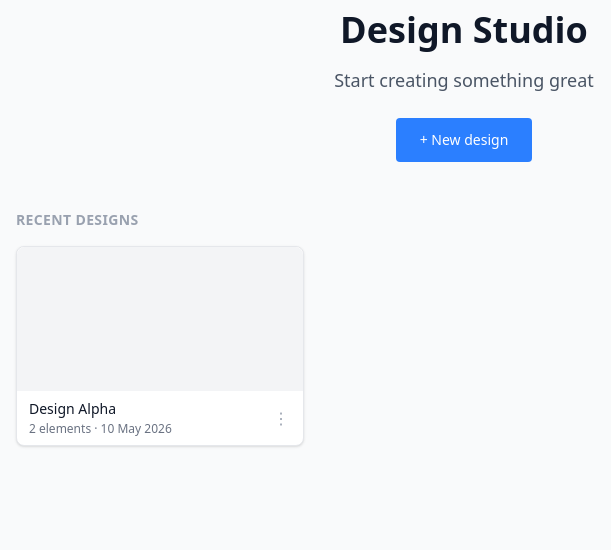
Test case: AC1 — Delete item in dropdown › shows a "Delete" option in the dropdown when ⋮ is clicked
expect the text "Design Alpha" is shown: met, box [29,399,116,418]
Click the button named "project options". click: click(281, 418)
box: [271,399,291,437]
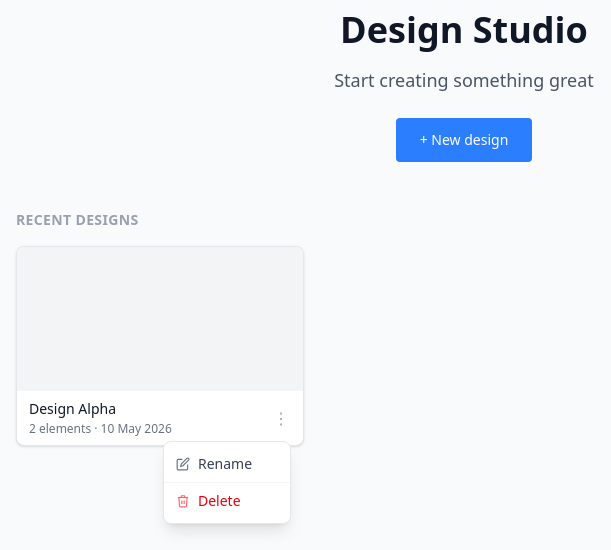
expect the button "Delete" is shown: met, box [164,483,290,519]
